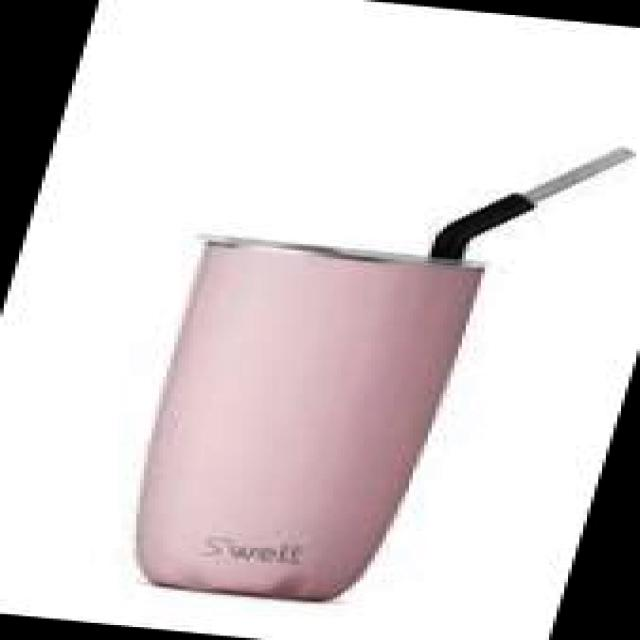bottle: (75, 105, 640, 625)
